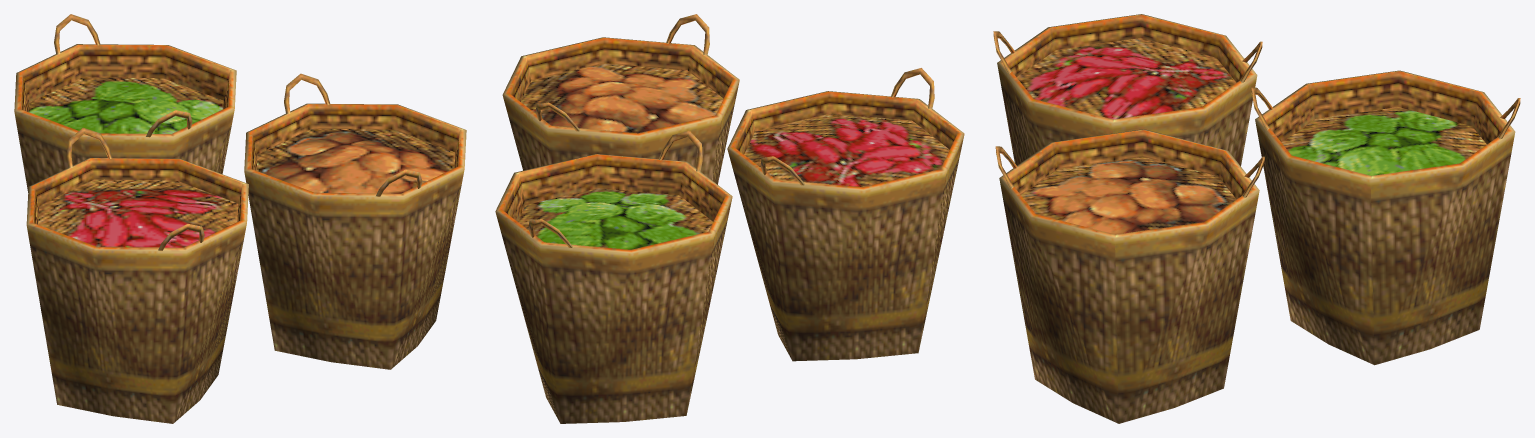
File: 5012_Item_shucai_1.FBX
3 views of the same model, side by side, from view 1: azimuth 30°, elevation 25°; view 2: azimuth 150°, elevation 25°; view 3: azimuth 270°, elevation 25° (orthographic). The views are drawn at different scales.
Parts seen in each view (by area): view 1: 5012_Item_shucai_1; view 2: 5012_Item_shucai_1; view 3: 5012_Item_shucai_1.
Part boxes in pixels (left/top/right/bottom): 5012_Item_shucai_1: left=14, top=14, right=466, bottom=423; 5012_Item_shucai_1: left=495, top=14, right=964, bottom=423; 5012_Item_shucai_1: left=993, top=14, right=1520, bottom=423.
Size of the model in its own units: 107 by 51.34 by 106.
